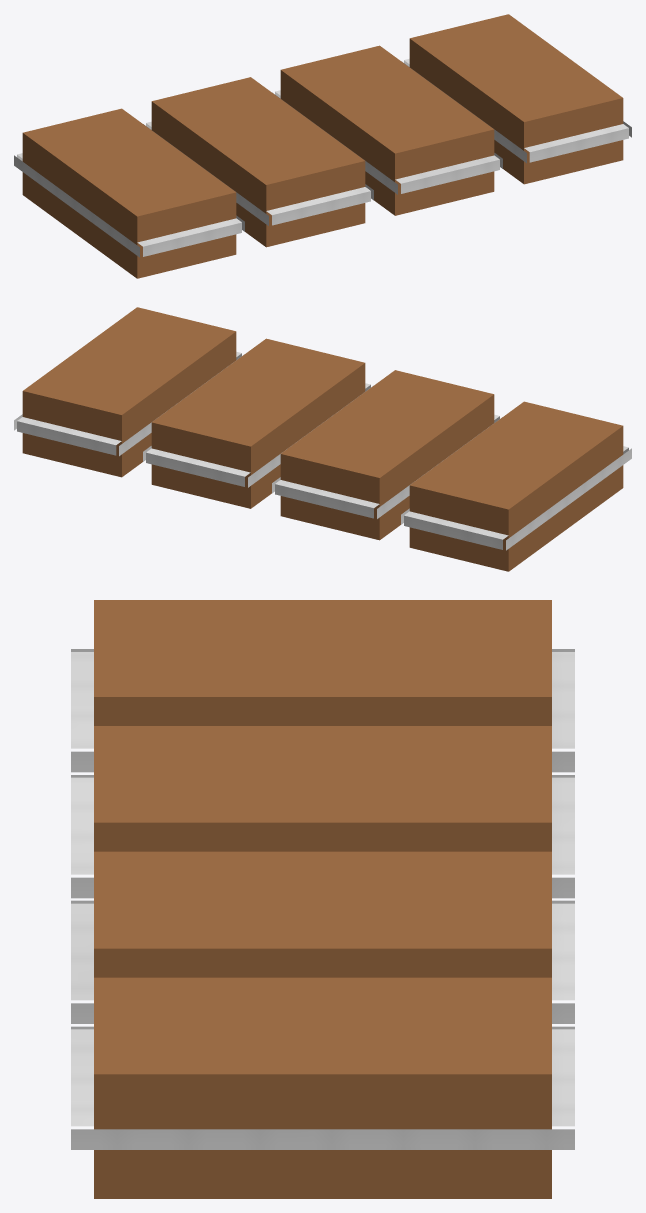
The model's file is meal_pemmican.obj.
3 renders of one model, top to bottom at view 1: azimuth 30°, elevation 25°; view 2: azimuth 150°, elevation 25°; view 3: azimuth 270°, elevation 25°, orthographic. The views are drawn at different scales.
Visible parts, largest first — view 1: meal_pemmican; view 2: meal_pemmican; view 3: meal_pemmican.
Part boxes in pixels (x1,y1,x2,y2): meal_pemmican: [14, 14, 631, 278]; meal_pemmican: [14, 307, 631, 571]; meal_pemmican: [71, 600, 574, 1198].
Bounding box in the file's own units: 0.496 × 0.06 × 0.22.
